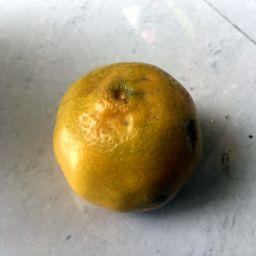Ripe: (55, 63, 203, 209)
